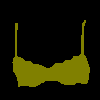reggiseno: (12, 20, 90, 87)
